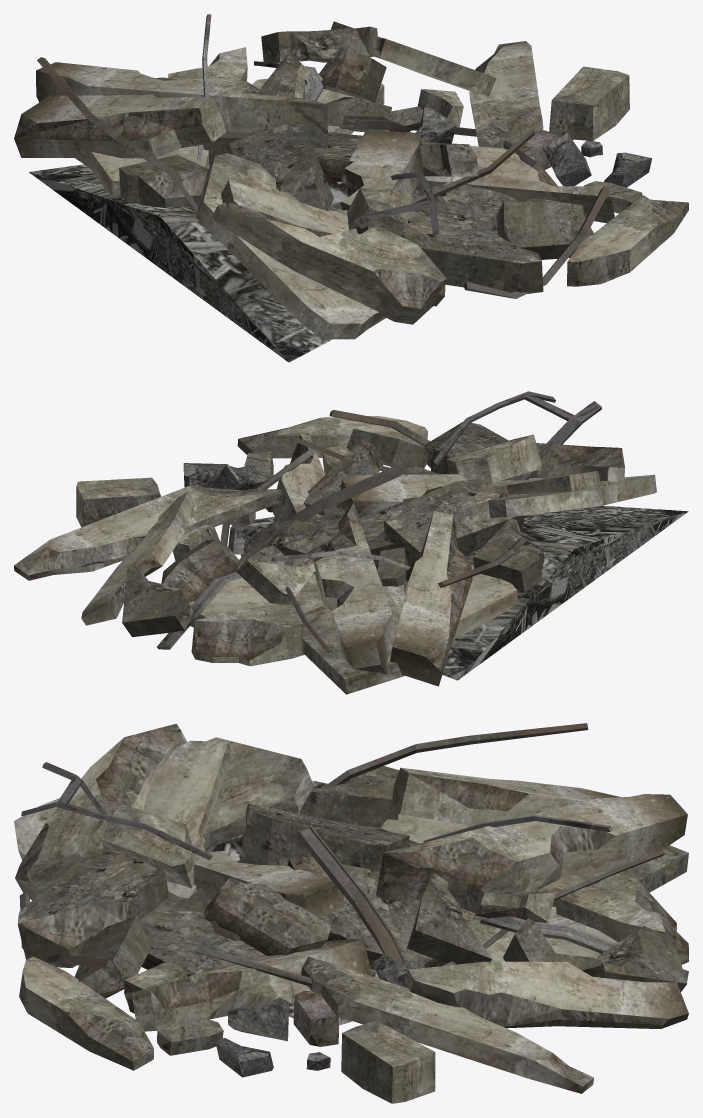
File: concrete_debris256pile001a.glb
3 views of the same model, one above another, from view 1: azimuth 30°, elevation 25°; view 2: azimuth 150°, elevation 25°; view 3: azimuth 270°, elevation 25° (orthographic). The views are drawn at different scales.
Parts seen in each view (by area): view 1: 0_composite_debris, 1_concretefloor020a; view 2: 0_composite_debris, 1_concretefloor020a; view 3: 0_composite_debris, 1_concretefloor020a.
Part boxes in pixels (bbox=[...]): 0_composite_debris: bbox=[14, 14, 688, 339]; 1_concretefloor020a: bbox=[29, 164, 420, 362]; 0_composite_debris: bbox=[14, 391, 656, 694]; 1_concretefloor020a: bbox=[232, 505, 688, 680]; 0_composite_debris: bbox=[14, 723, 688, 1103]; 1_concretefloor020a: bbox=[205, 780, 446, 1025].
Bounding box in the file's own units: 6.11 × 1.26 × 6.42.
Materials: 2 (2 with a texture image).
